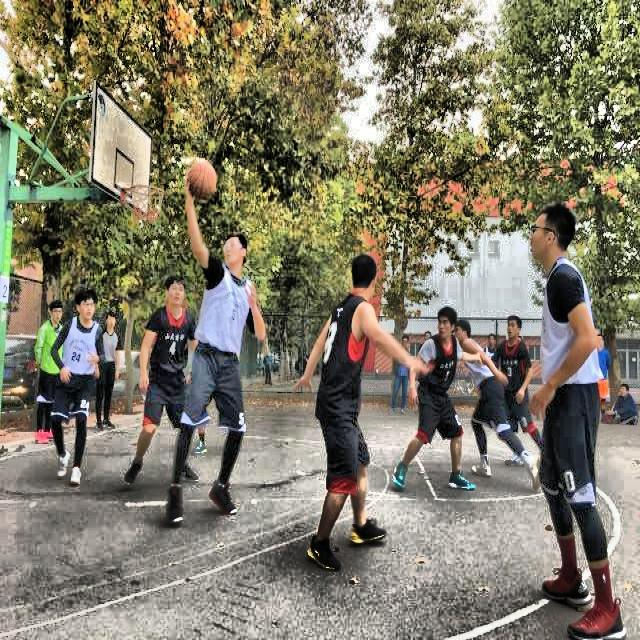board: (186, 160, 216, 200)
